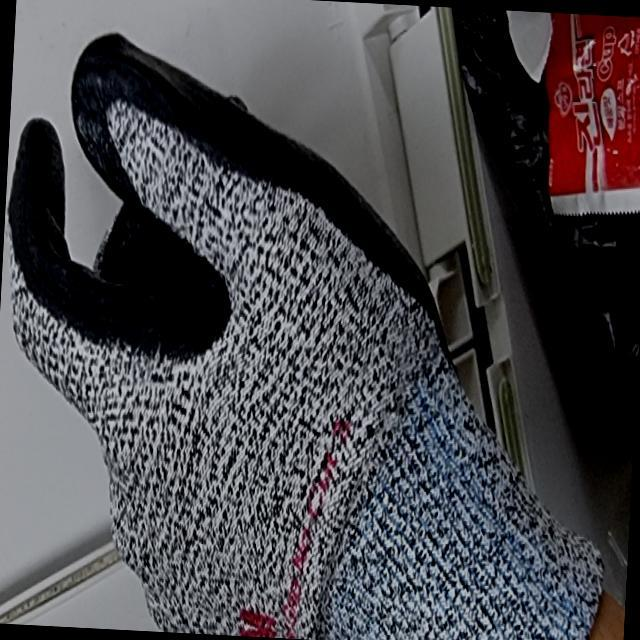Gloves: (3, 28, 616, 640)
